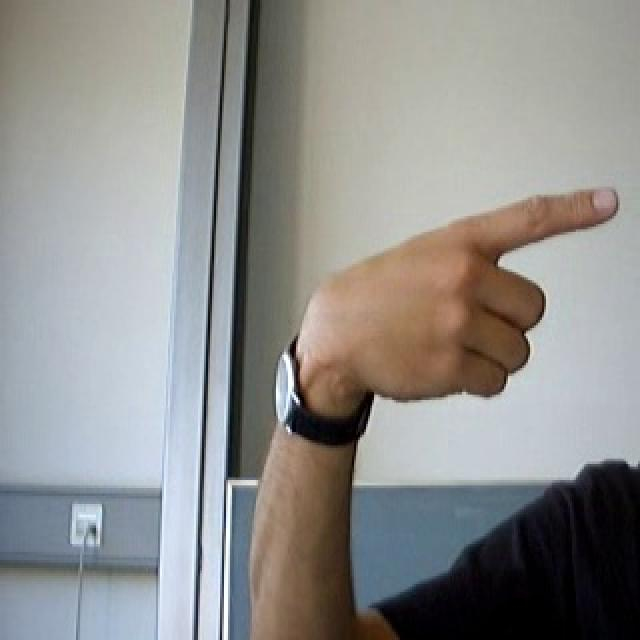G: (270, 141, 627, 464)
